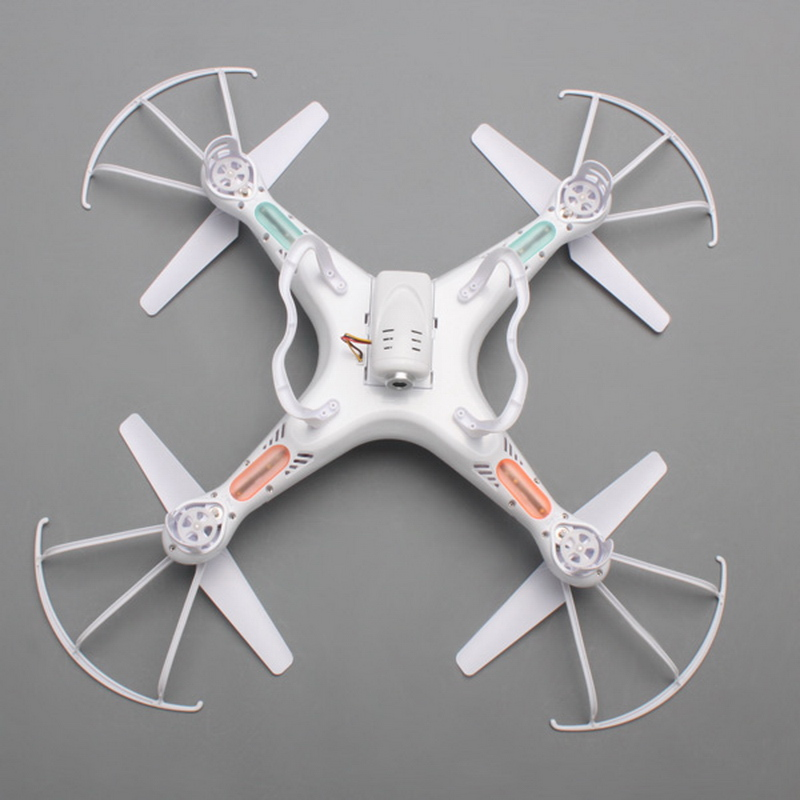drone: (33, 60, 735, 738)
